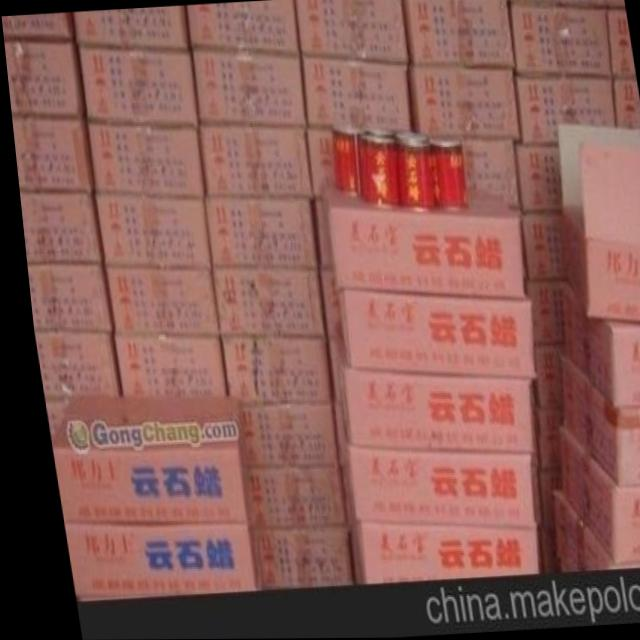box: (43, 398, 237, 522), (320, 187, 518, 298), (54, 485, 245, 600), (332, 350, 521, 455), (329, 291, 529, 379), (555, 123, 640, 324), (337, 444, 525, 526), (339, 503, 524, 585), (551, 428, 640, 564), (556, 355, 640, 485), (559, 280, 640, 407), (77, 45, 196, 127), (192, 46, 303, 128), (86, 121, 201, 199), (92, 196, 207, 269), (198, 195, 313, 267), (196, 125, 310, 197), (541, 493, 640, 575), (408, 67, 516, 141), (99, 268, 214, 336), (208, 267, 319, 337), (301, 58, 407, 130), (407, 0, 514, 69), (509, 4, 610, 77), (214, 337, 324, 403), (297, 0, 407, 63), (106, 336, 219, 396), (514, 77, 612, 145), (9, 113, 90, 194), (242, 523, 341, 589), (236, 464, 335, 528), (187, 0, 299, 56), (21, 262, 108, 334), (15, 189, 99, 262), (232, 404, 329, 466), (3, 41, 84, 114), (28, 331, 113, 397), (72, 6, 191, 48), (459, 139, 514, 211), (510, 146, 555, 214), (516, 214, 558, 282), (521, 282, 557, 345), (1, 12, 73, 40), (304, 127, 330, 198), (526, 349, 557, 407), (608, 9, 634, 77), (526, 410, 553, 469), (611, 77, 640, 128), (315, 268, 334, 337), (527, 471, 549, 529), (310, 200, 328, 266), (38, 399, 61, 444), (320, 341, 333, 402), (526, 531, 545, 570), (509, 0, 606, 7), (326, 403, 336, 466), (607, 0, 624, 8)
